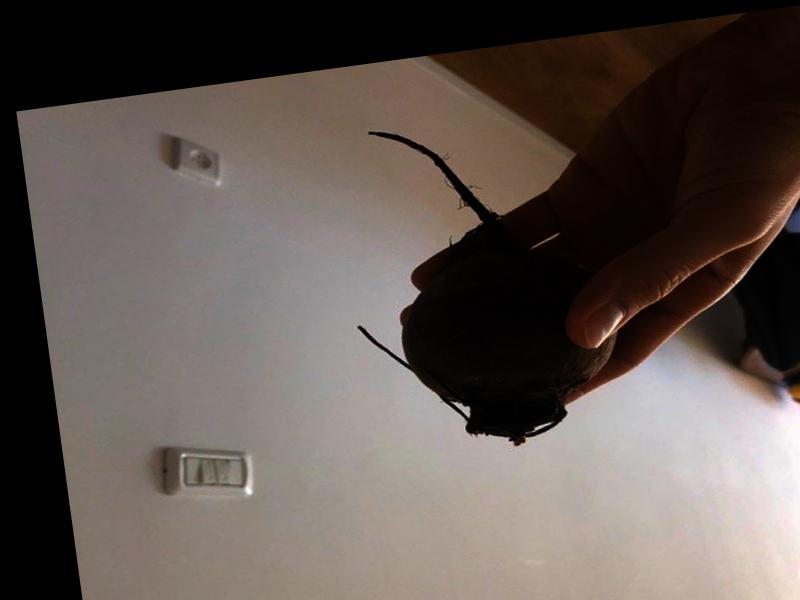Beet: (329, 101, 631, 464)
